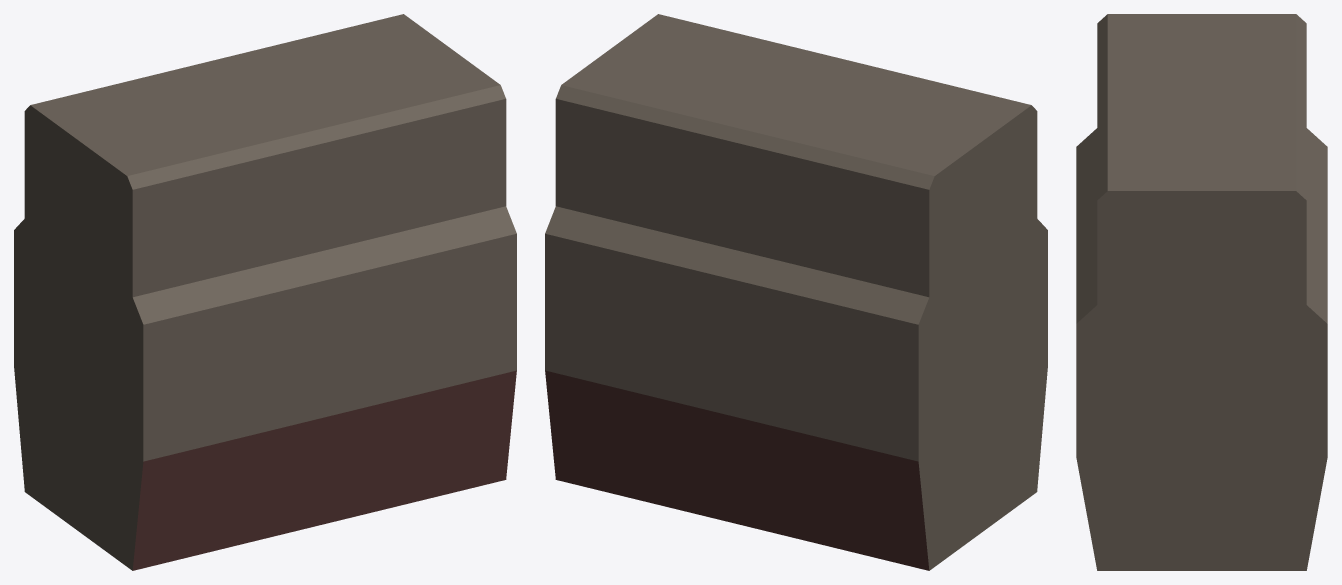
The model's file is steampunk_wall_stone.fbx.
The picture shows the model from 3 angles, left to right: view 1: azimuth 30°, elevation 25°; view 2: azimuth 150°, elevation 25°; view 3: azimuth 270°, elevation 25°; orthographic projection. The views are drawn at different scales.
Parts seen in each view (by area): view 1: Cube.011; view 2: Cube.011; view 3: Cube.011.
Boxes of the visible parts, x1,y1,x2,y2 form: Cube.011: (14, 14, 516, 570); Cube.011: (545, 14, 1047, 570); Cube.011: (1076, 14, 1327, 570).
Size of the model in its own units: 3 by 3 by 1.8.
